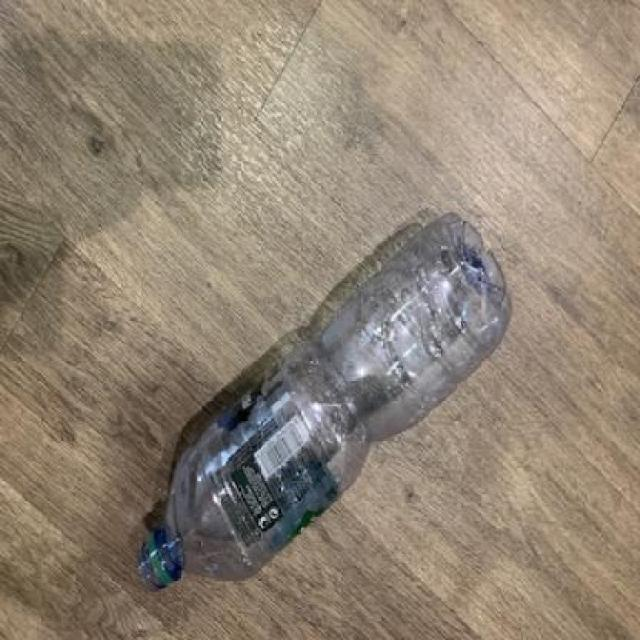trash: (132, 208, 516, 598)
